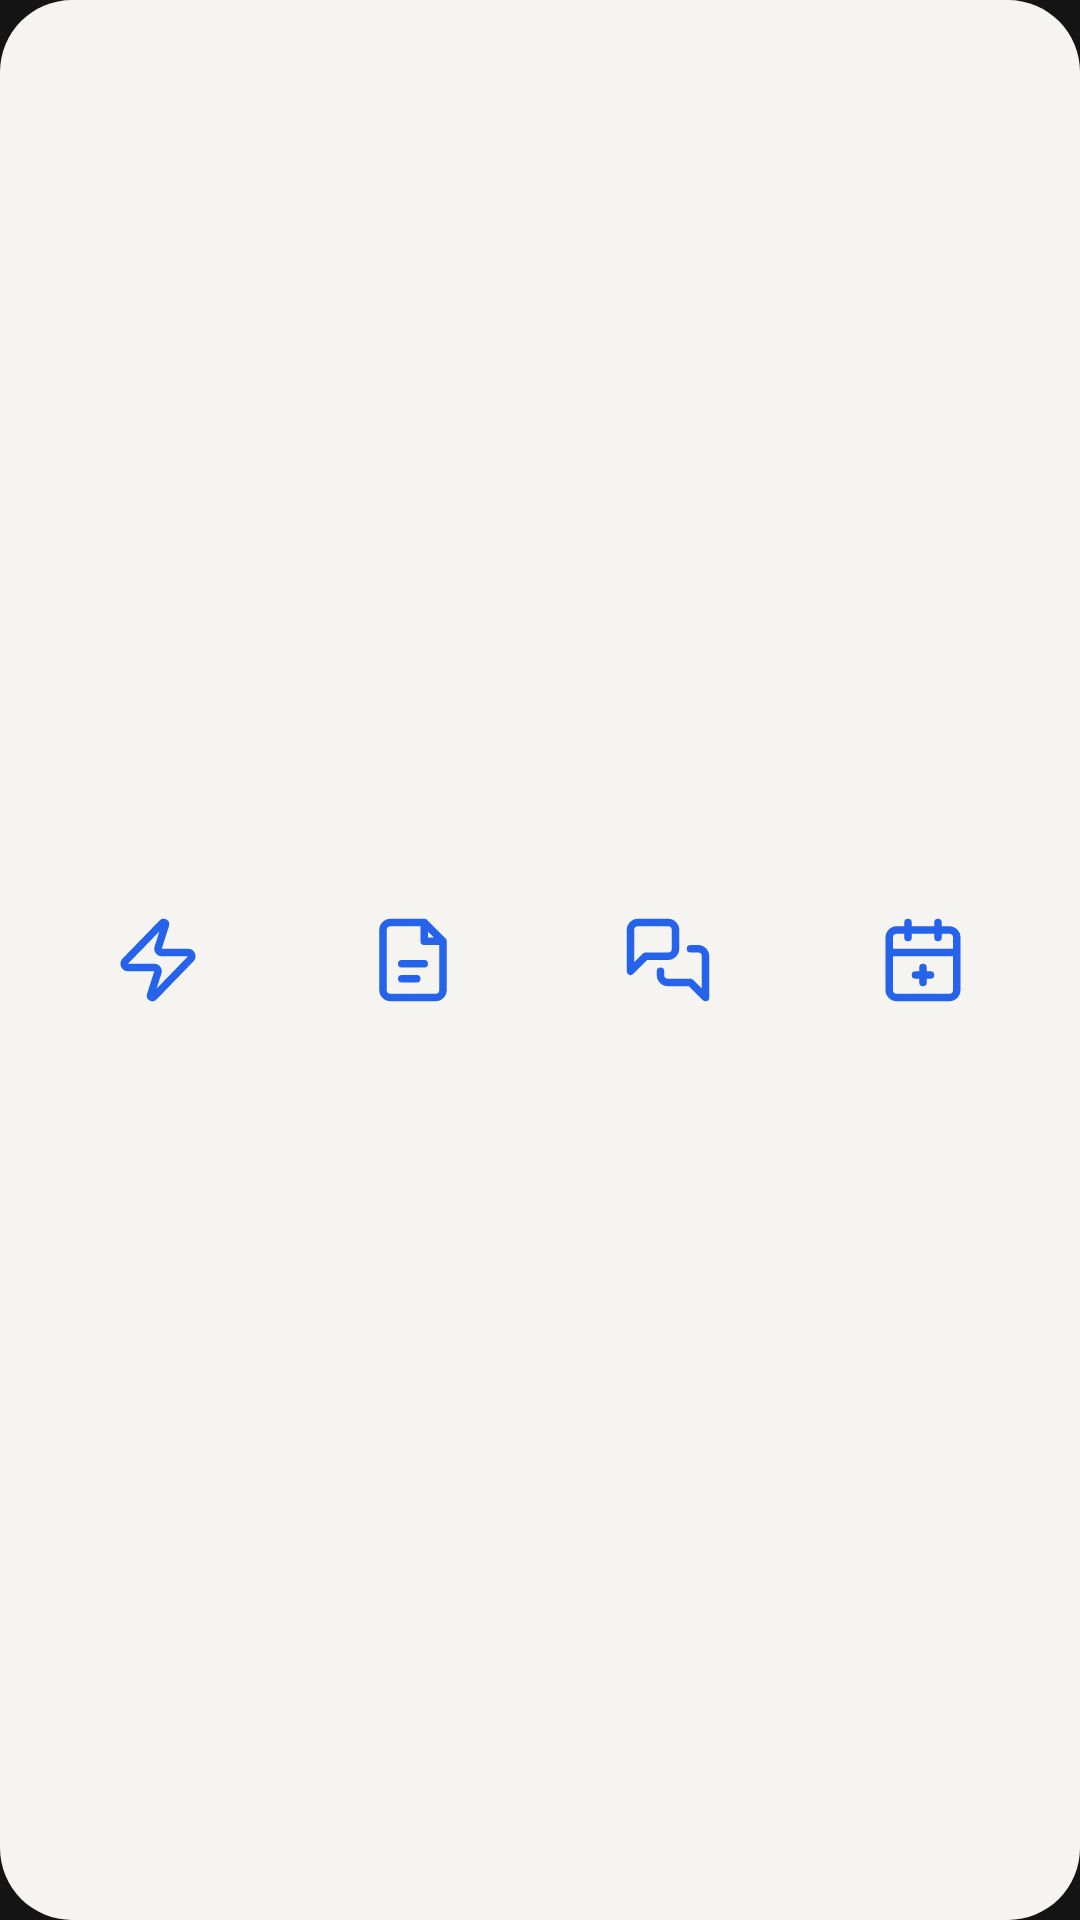

Screen size 1080 x 1920. Icon name, then its box in pixels as (x1, y1, x2, y2):
Chat: (626, 918, 710, 1002)
Event: (885, 918, 961, 1002)
Note: (379, 918, 447, 1002)
